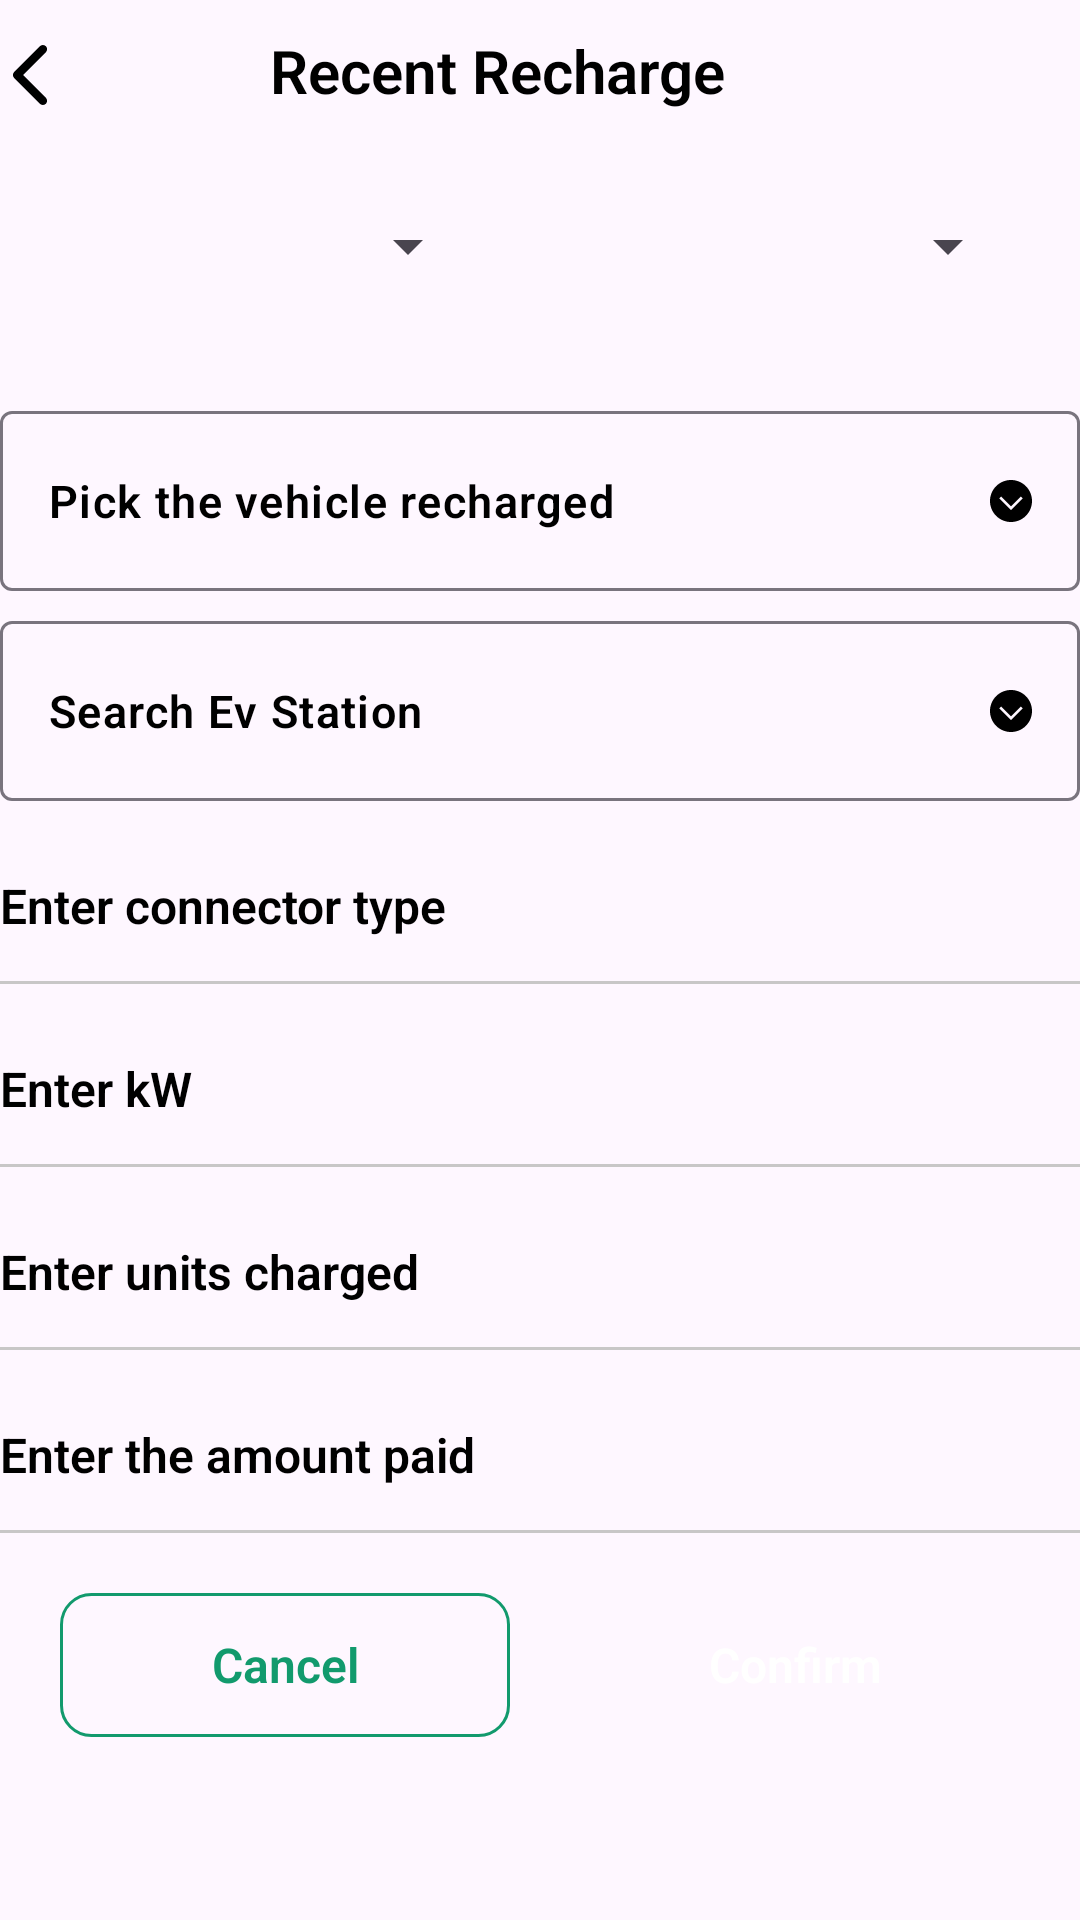

Named icons in this screenshot (1080x1920) and their bounding boxes, (x1, y1, x2, y2):
left arrow: (13, 45, 47, 105)
